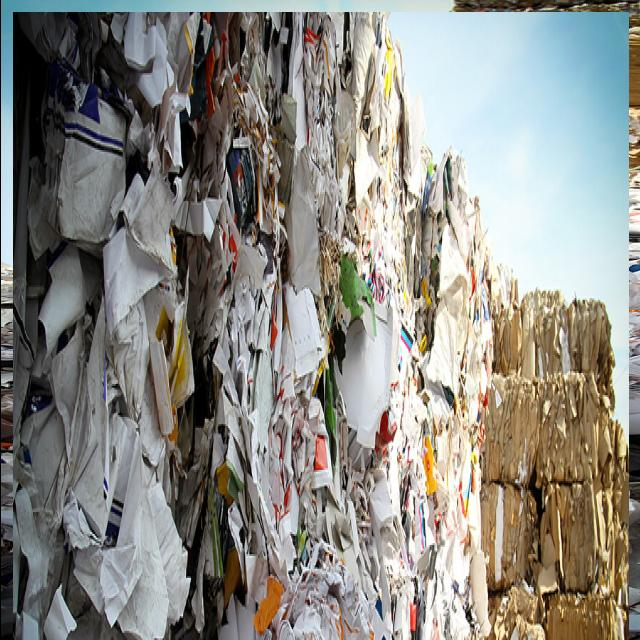garbage: (6, 18, 634, 640)
